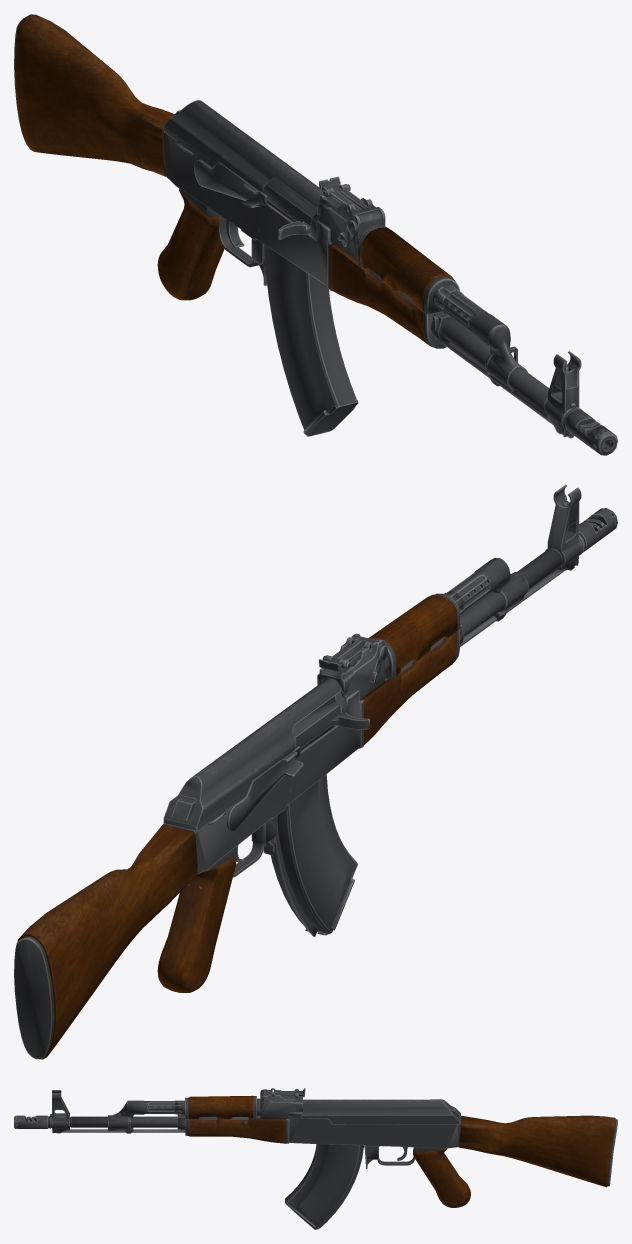
Rendered from r3_slim.glb.
3 views of the same model, one above another, from view 1: azimuth 30°, elevation 25°; view 2: azimuth 150°, elevation 25°; view 3: azimuth 270°, elevation 25° (orthographic). The views are drawn at different scales.
Parts seen in each view (by area): view 1: body; view 2: body; view 3: body.
Part boxes in pixels (x1,y1,x2,y2): body: (14,14,617,455); body: (14,484,617,1059); body: (14,1088,617,1229).
Bounding box in the file's own units: 0.0603 × 0.231 × 0.92.
1 material, 1 textured.
